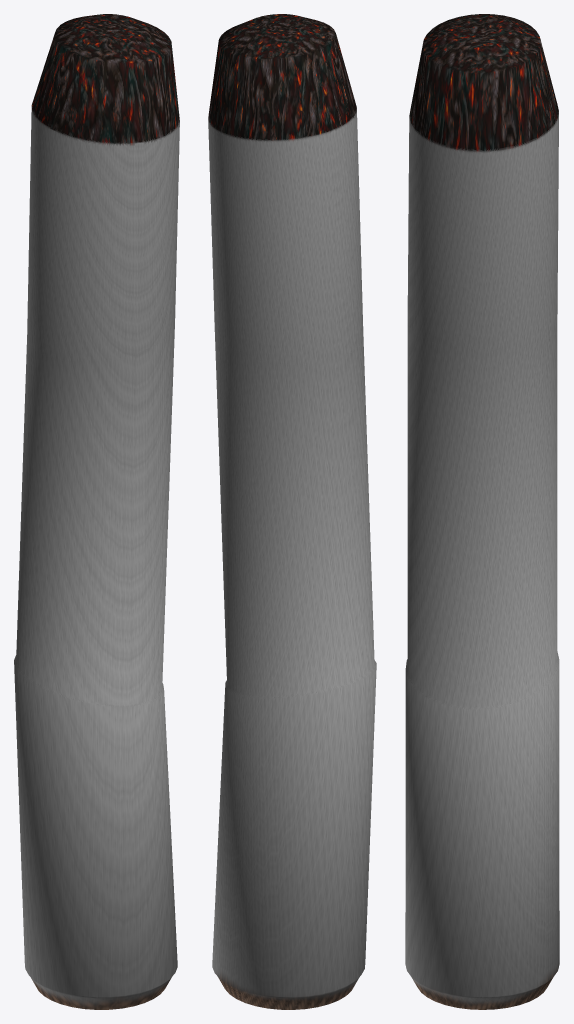
The model's file is porro.fbx.
The picture shows the model from 3 angles, left to right: view 1: azimuth 30°, elevation 25°; view 2: azimuth 150°, elevation 25°; view 3: azimuth 270°, elevation 25°; orthographic projection.
Parts seen in each view (by area): view 1: porro; view 2: porro; view 3: porro.
Part boxes in pixels (<box>): porro: <box>14,14,179,1009</box>; porro: <box>208,14,376,1009</box>; porro: <box>405,14,559,1009</box>.
Size of the model in its own units: 10.19 by 63.22 by 9.2.
